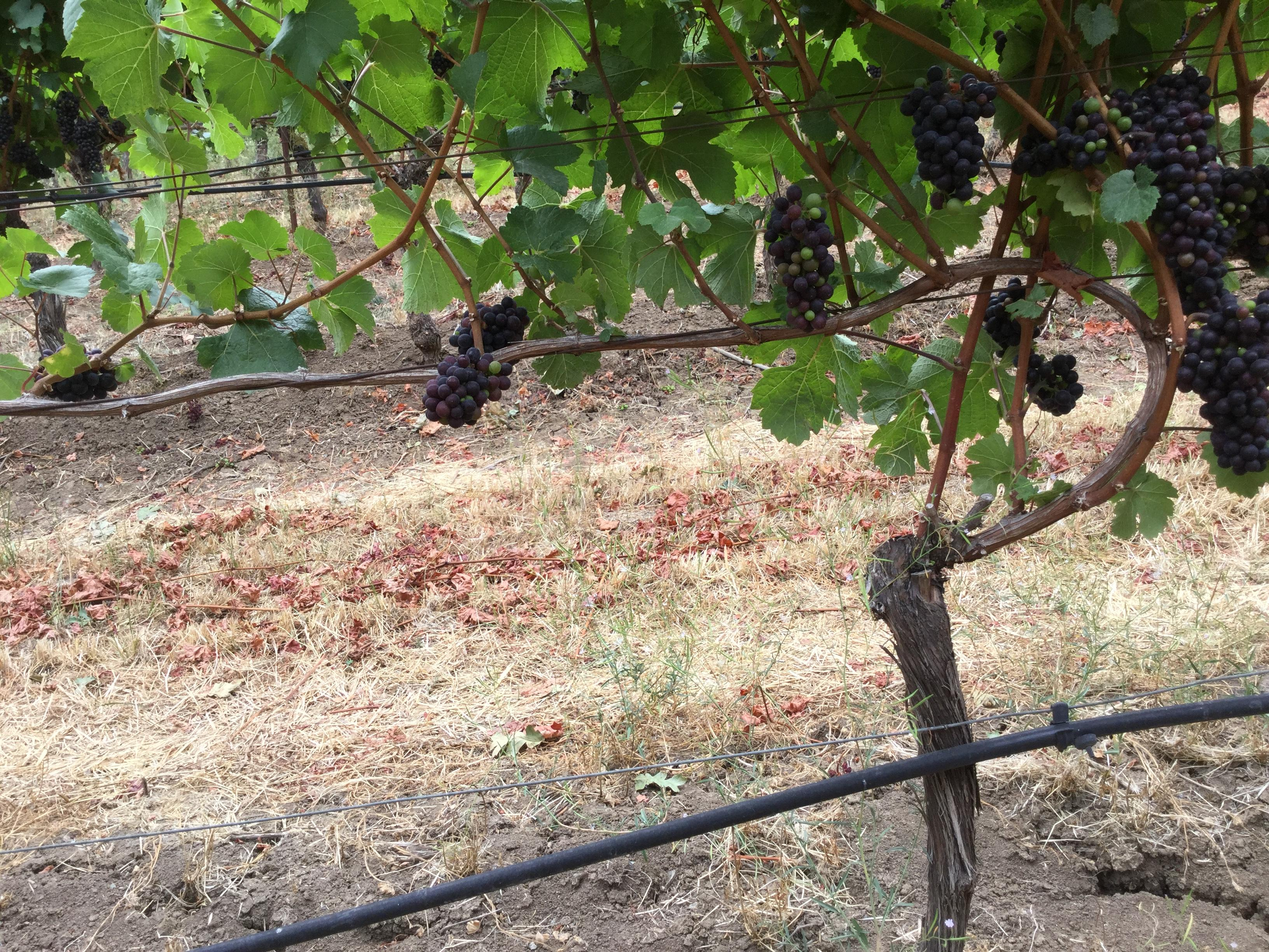leaf: (476, 0, 587, 117), (65, 0, 172, 115), (751, 336, 857, 444), (631, 112, 734, 203), (265, 0, 358, 86), (204, 47, 299, 128), (356, 61, 444, 148), (196, 320, 305, 378), (631, 226, 706, 309), (578, 204, 632, 319), (699, 205, 761, 304), (499, 126, 581, 192), (727, 117, 801, 188), (177, 239, 253, 308), (870, 394, 931, 475), (63, 203, 132, 273), (1111, 467, 1177, 539), (860, 348, 916, 425), (620, 2, 683, 68), (500, 205, 587, 252), (401, 244, 460, 311), (362, 14, 426, 75), (1202, 441, 1268, 498), (1100, 163, 1160, 223), (218, 210, 288, 260), (324, 275, 376, 338), (966, 432, 1014, 495), (850, 241, 906, 294), (600, 46, 653, 101), (637, 198, 710, 235), (367, 188, 411, 247), (532, 353, 600, 391), (445, 50, 488, 108), (311, 299, 356, 354), (17, 265, 93, 297), (294, 226, 337, 280), (798, 0, 853, 40), (798, 89, 839, 142), (274, 307, 324, 350), (40, 331, 86, 377), (1051, 169, 1094, 216), (1072, 4, 1118, 46), (105, 262, 162, 294), (101, 288, 142, 332), (4, 227, 60, 256), (1006, 284, 1052, 319), (0, 353, 29, 399), (566, 66, 607, 97), (1028, 480, 1073, 508), (238, 286, 285, 311), (8, 0, 45, 29), (0, 19, 52, 39), (608, 149, 633, 186), (409, 187, 418, 197), (1018, 475, 1023, 480), (358, 9, 361, 14), (874, 30, 879, 32), (746, 348, 752, 349), (319, 315, 320, 319), (896, 40, 898, 42), (584, 216, 588, 216), (291, 368, 293, 368), (905, 21, 905, 21)
